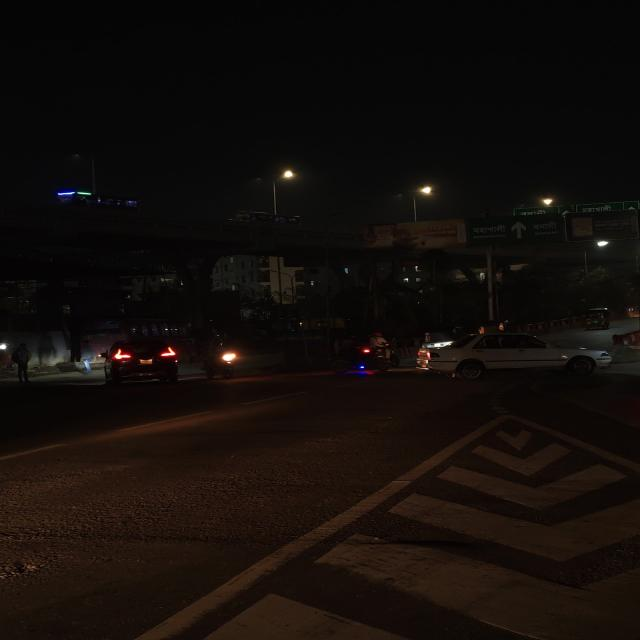car: (429, 330, 621, 382), (97, 337, 188, 388)
cng: (579, 307, 614, 331)
motorcycle: (339, 332, 398, 372), (200, 332, 242, 382)
pedestrian: (11, 342, 34, 383), (76, 340, 98, 379)
